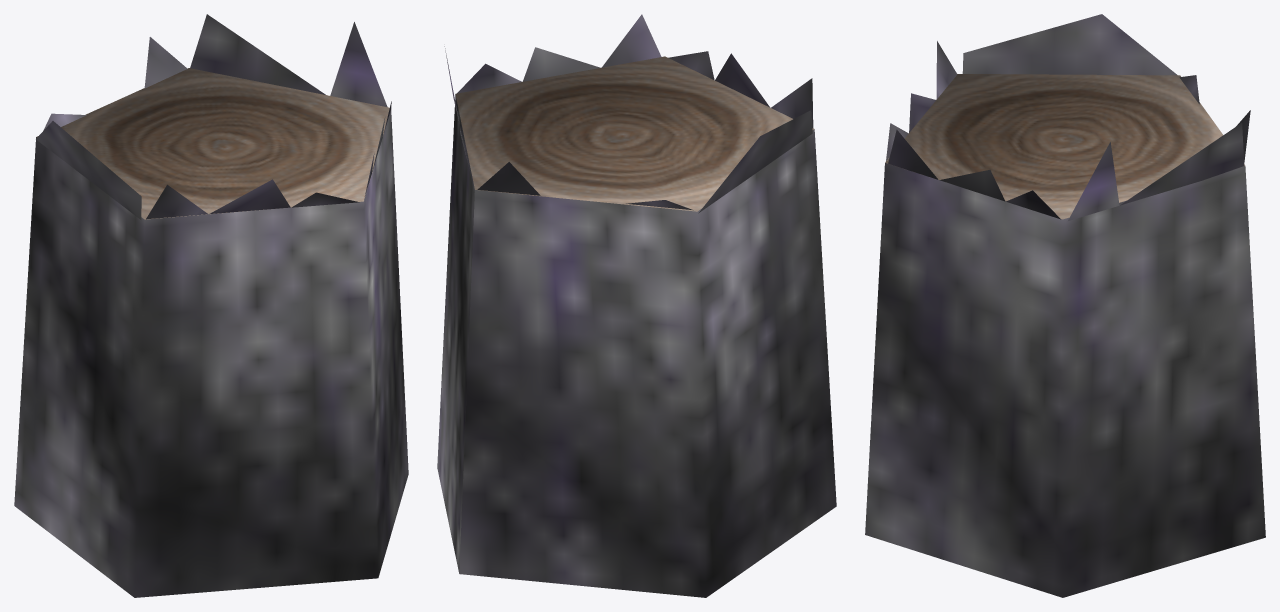
Rendered from spruceStump1.fbx.
3 views of the same model, side by side, from view 1: azimuth 30°, elevation 25°; view 2: azimuth 150°, elevation 25°; view 3: azimuth 270°, elevation 25° (orthographic). The views are drawn at different scales.
Parts seen in each view (by area): view 1: Spruce Tree Stump 1; view 2: Spruce Tree Stump 1; view 3: Spruce Tree Stump 1.
Part boxes in pixels (bbox=[...]): Spruce Tree Stump 1: bbox=[14, 14, 408, 597]; Spruce Tree Stump 1: bbox=[437, 14, 836, 597]; Spruce Tree Stump 1: bbox=[865, 14, 1265, 597].
Bounding box in the file's own units: 38.1 × 47.97 × 39.43.
